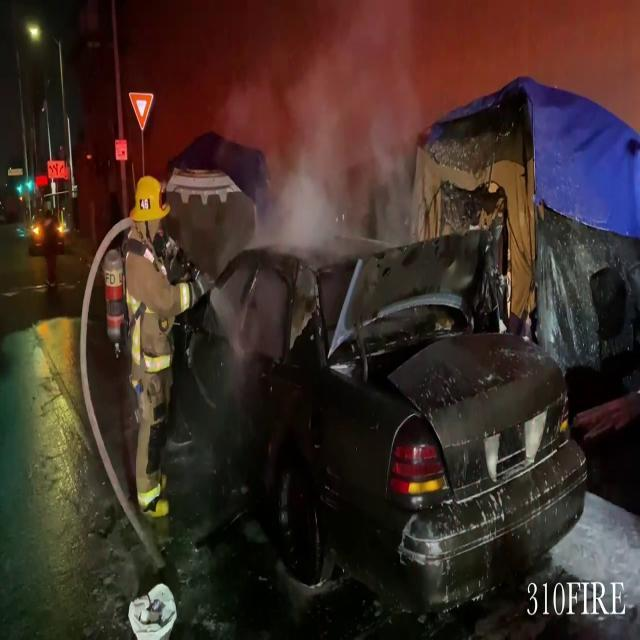Smoke: (219, 0, 451, 252)
